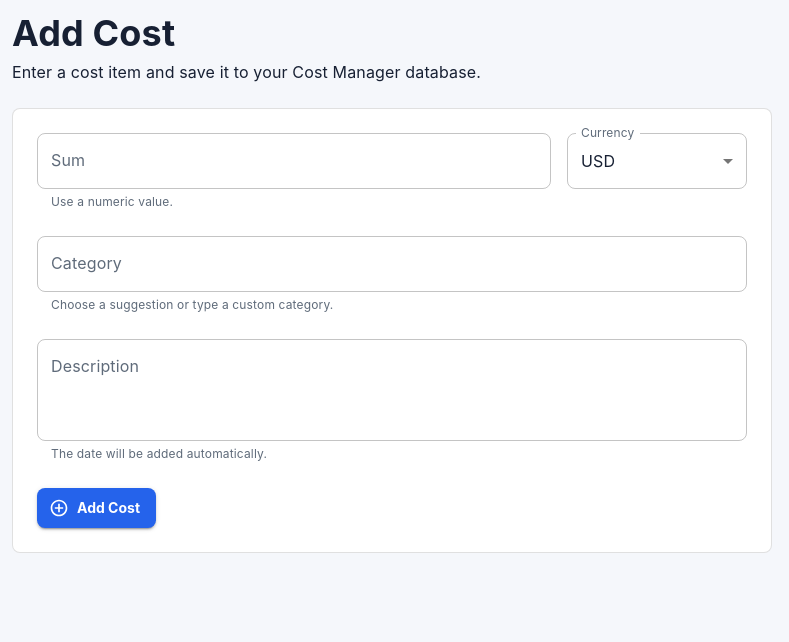
Test: AddCostPage › submits a valid cost through db.js, persists it, records the date, and resets the form
Type "125.5" into the field labelled "Sum" at (294, 162), box [37,134,551,190]
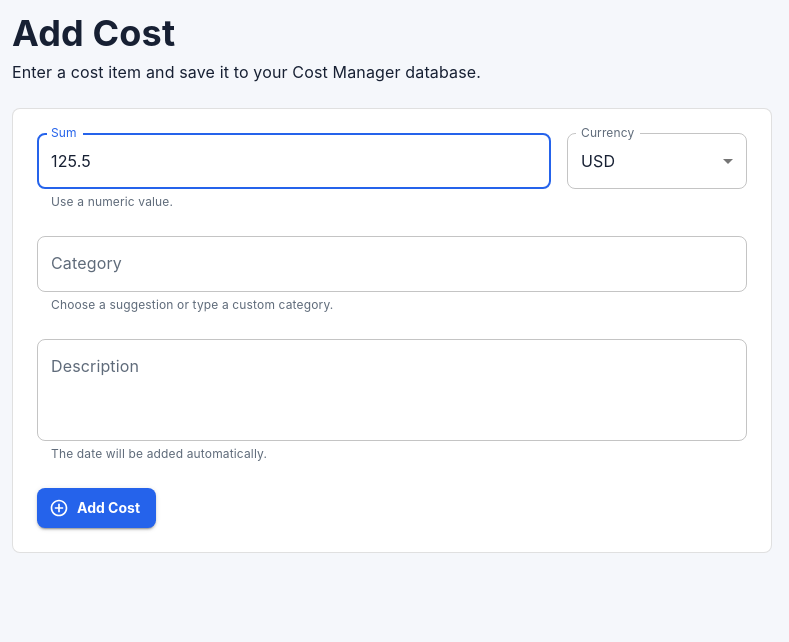
Type "Food" into the dropdown labelled "Category" at (392, 264), box [46,245,738,283]
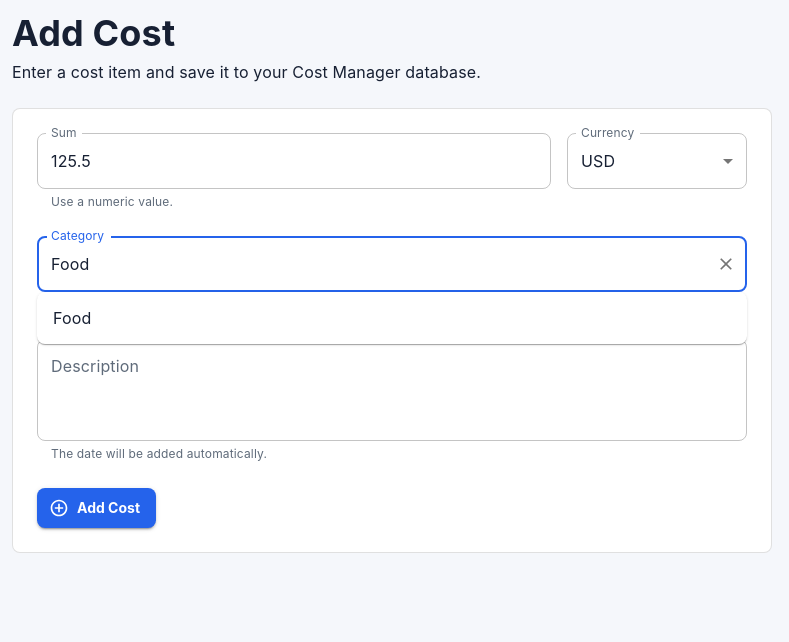
Type "Lunch" into the text box labelled "Description" at (392, 390), box [51,356,733,425]
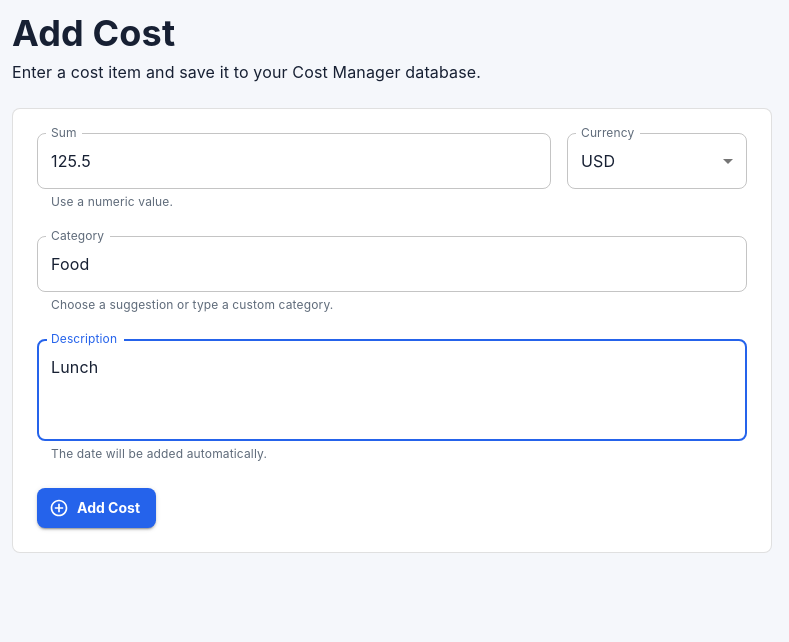
Click the button "Add Cost" at (96, 508), box [37,488,156,528]
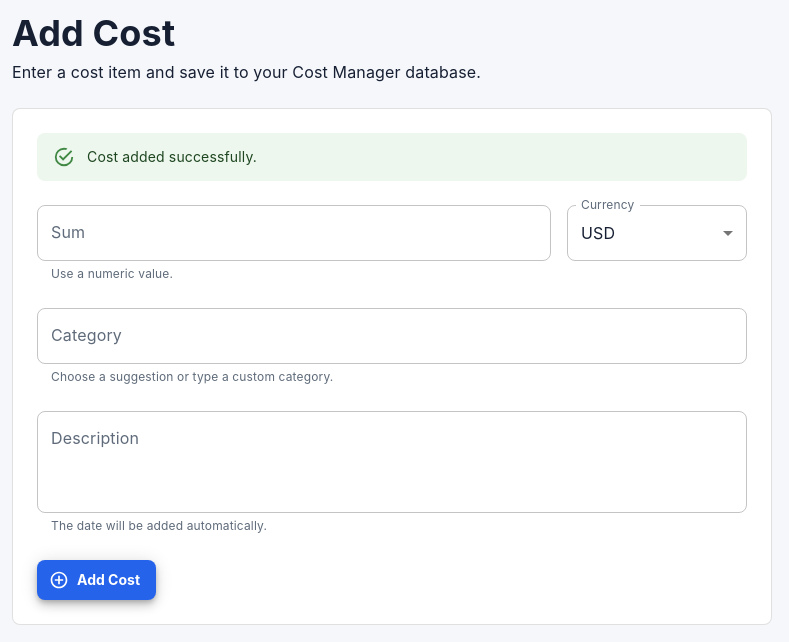
Check: the text "Cost added successfully." is shown, box [87,148,257,166]
Check: the field labelled "Sum" is empty, box [37,206,551,262]
Check: the dropdown labelled "Category" is empty, box [46,317,738,355]
